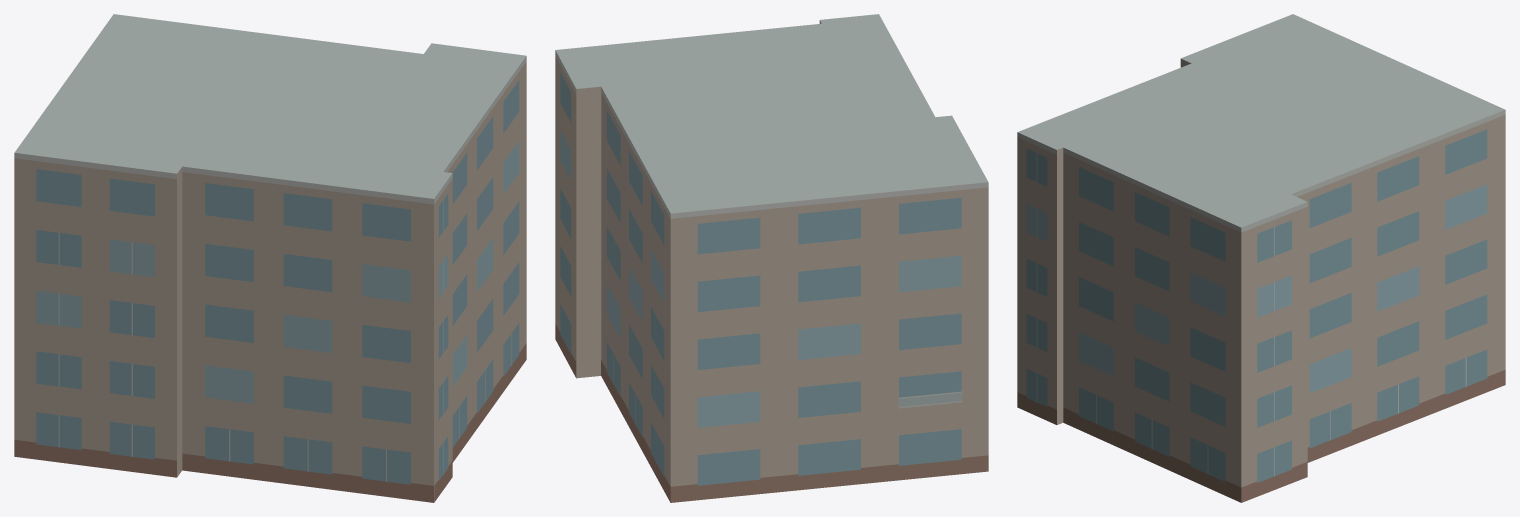
The model's file is survey-upis-32766320.glb.
The picture shows the model from 3 angles, left to right: view 1: azimuth 30°, elevation 25°; view 2: azimuth 150°, elevation 25°; view 3: azimuth 270°, elevation 25°; orthographic projection. The views are drawn at different scales.
Visible parts, largest first — view 1: survey-upis-32766320.tmp; view 2: survey-upis-32766320.tmp; view 3: survey-upis-32766320.tmp.
Boxes of the visible parts, x1=… form: survey-upis-32766320.tmp: x1=14, y1=14, x2=526, y2=502; survey-upis-32766320.tmp: x1=555, y1=14, x2=988, y2=502; survey-upis-32766320.tmp: x1=1017, y1=14, x2=1505, y2=502.
Bounding box in the file's own units: 22.74 × 13.65 × 21.96.
